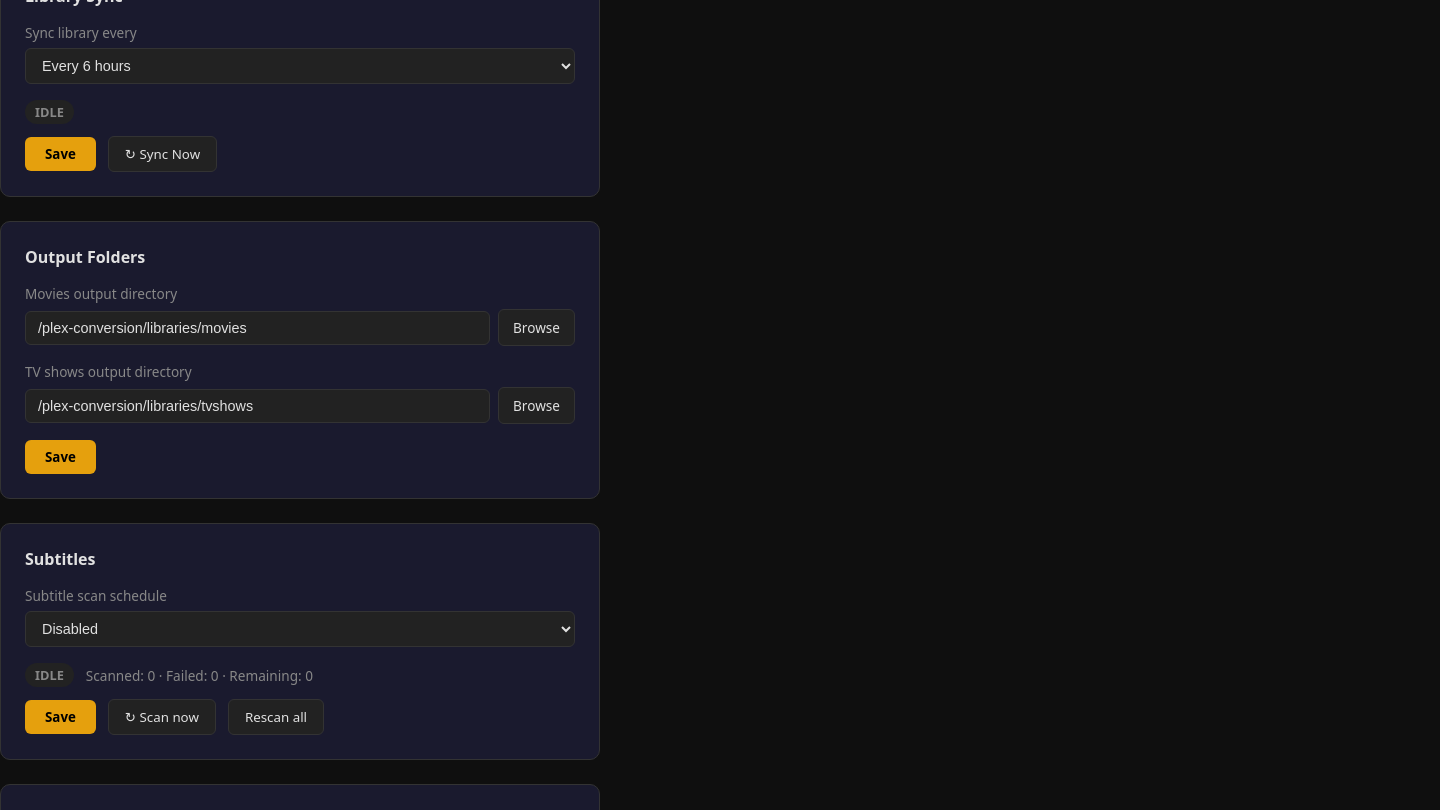
SettingsView › browse tvshows button opens folder picker
(page scrolled)
Step 1. Click the button with test id "browse-tvshows-btn" → (536, 406), box [498,387,575,424]
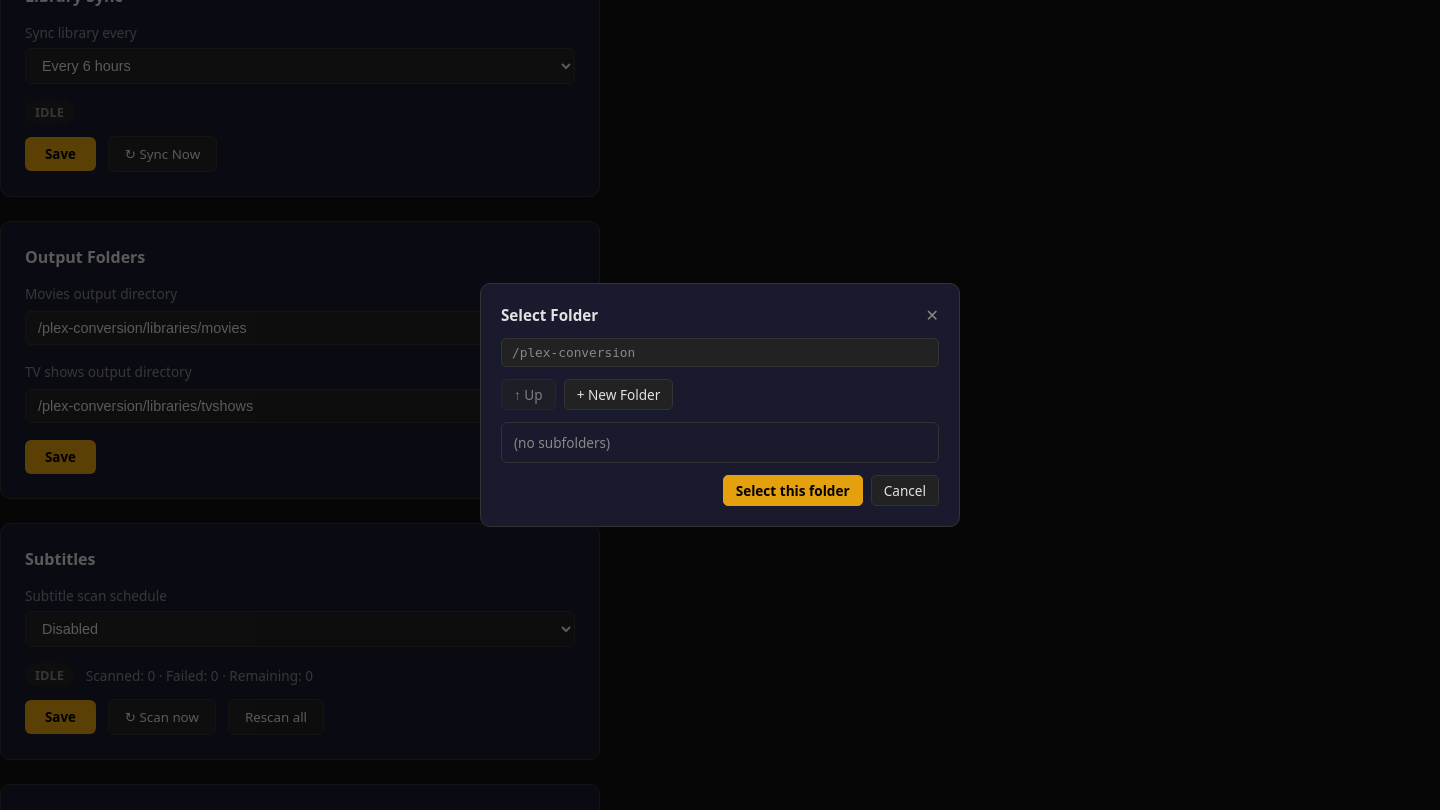
Expected: the element with class "folder-picker-overlay" is shown
